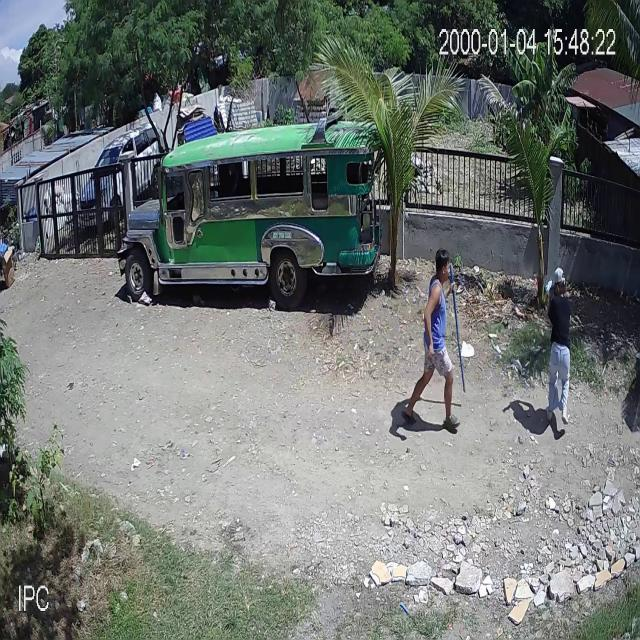running: (401, 248, 465, 428), (545, 267, 570, 426)
